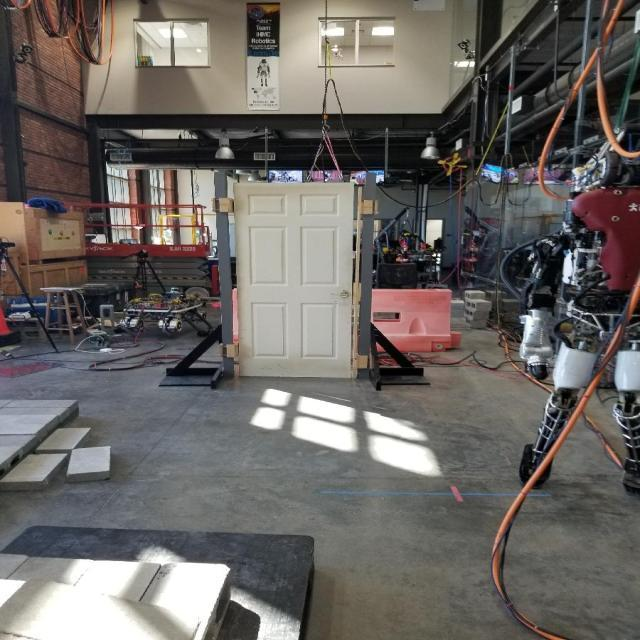door: (230, 180, 360, 383), (330, 288, 350, 298)
